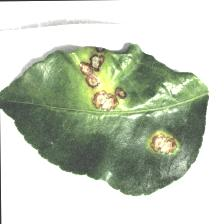canker: (74, 45, 185, 161)
